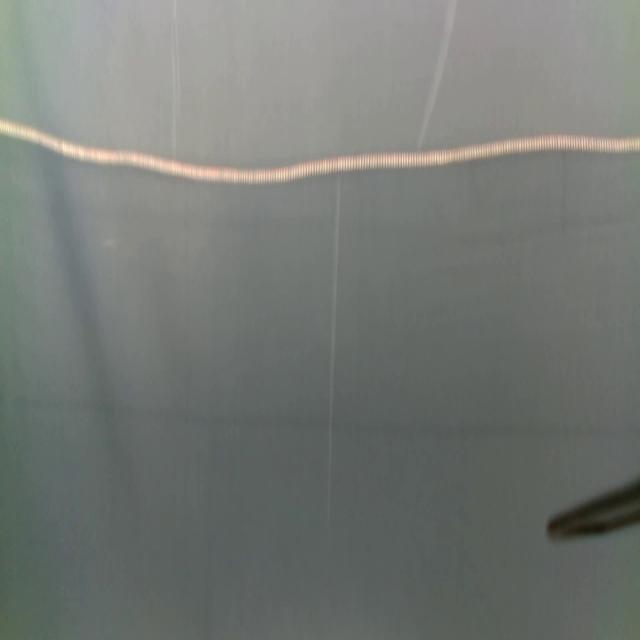color bleeding: (15, 392, 640, 470), (31, 196, 640, 248)
crease: (418, 0, 458, 153), (324, 179, 342, 513), (168, 0, 183, 157)
